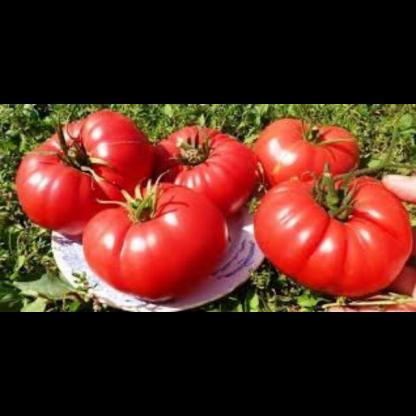tomato: (250, 167, 412, 300), (82, 180, 230, 302), (16, 109, 158, 234), (159, 122, 258, 220), (257, 113, 363, 188)
